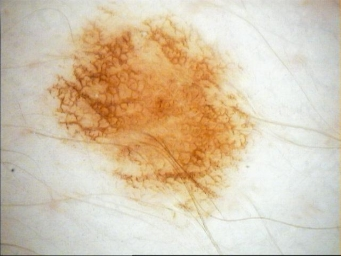nevus: (48, 17, 257, 190)
